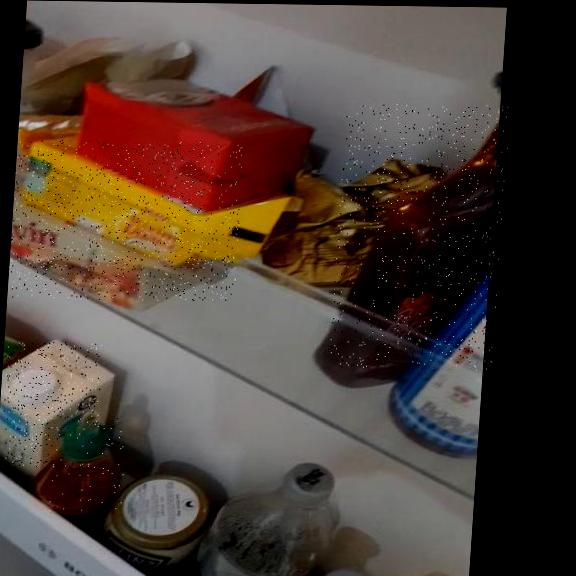butter: (7, 139, 245, 302)
milk: (0, 341, 103, 468)
sauce: (329, 103, 511, 372), (49, 416, 128, 512)
